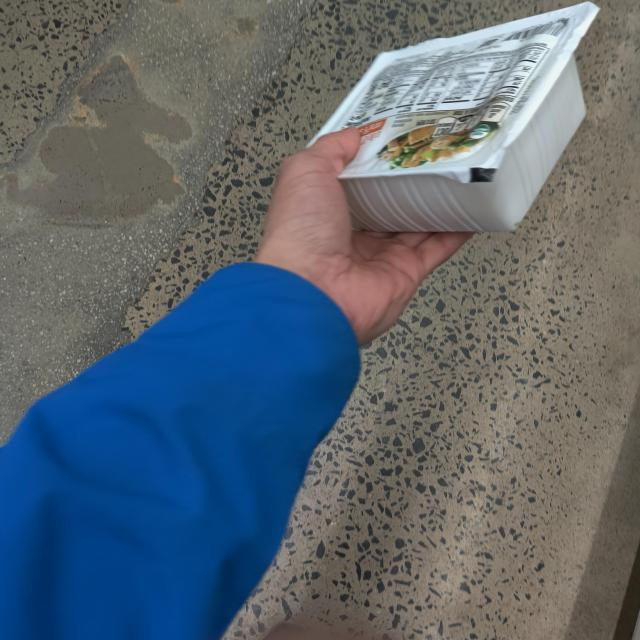Tofu: (284, 0, 602, 229)
